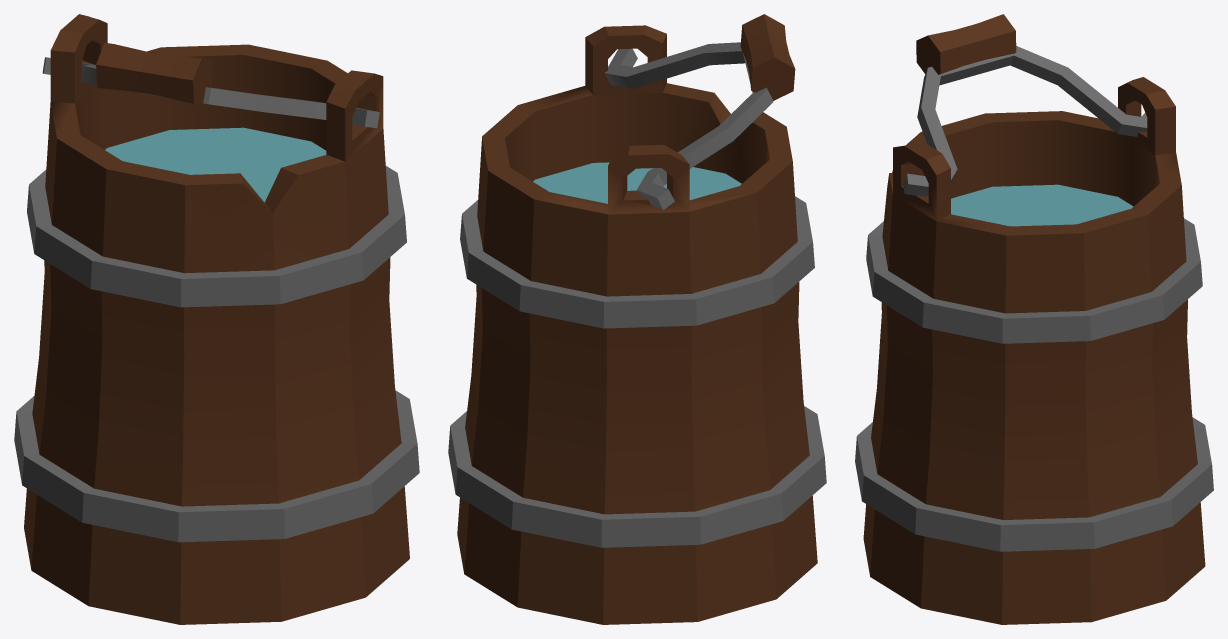
File: wiadrozuzi.fbx
3 views of the same model, side by side, from view 1: azimuth 30°, elevation 25°; view 2: azimuth 150°, elevation 25°; view 3: azimuth 270°, elevation 25° (orthographic). The views are drawn at different scales.
Visible parts, largest first — view 1: Cylinder003; view 2: Cylinder003; view 3: Cylinder003.
Boxes of the visible parts, x1=… form: Cylinder003: x1=14, y1=14, x2=419, y2=624; Cylinder003: x1=448, y1=14, x2=826, y2=624; Cylinder003: x1=855, y1=14, x2=1213, y2=624.
Size of the model in its own units: 5.47 by 8.15 by 5.47.
